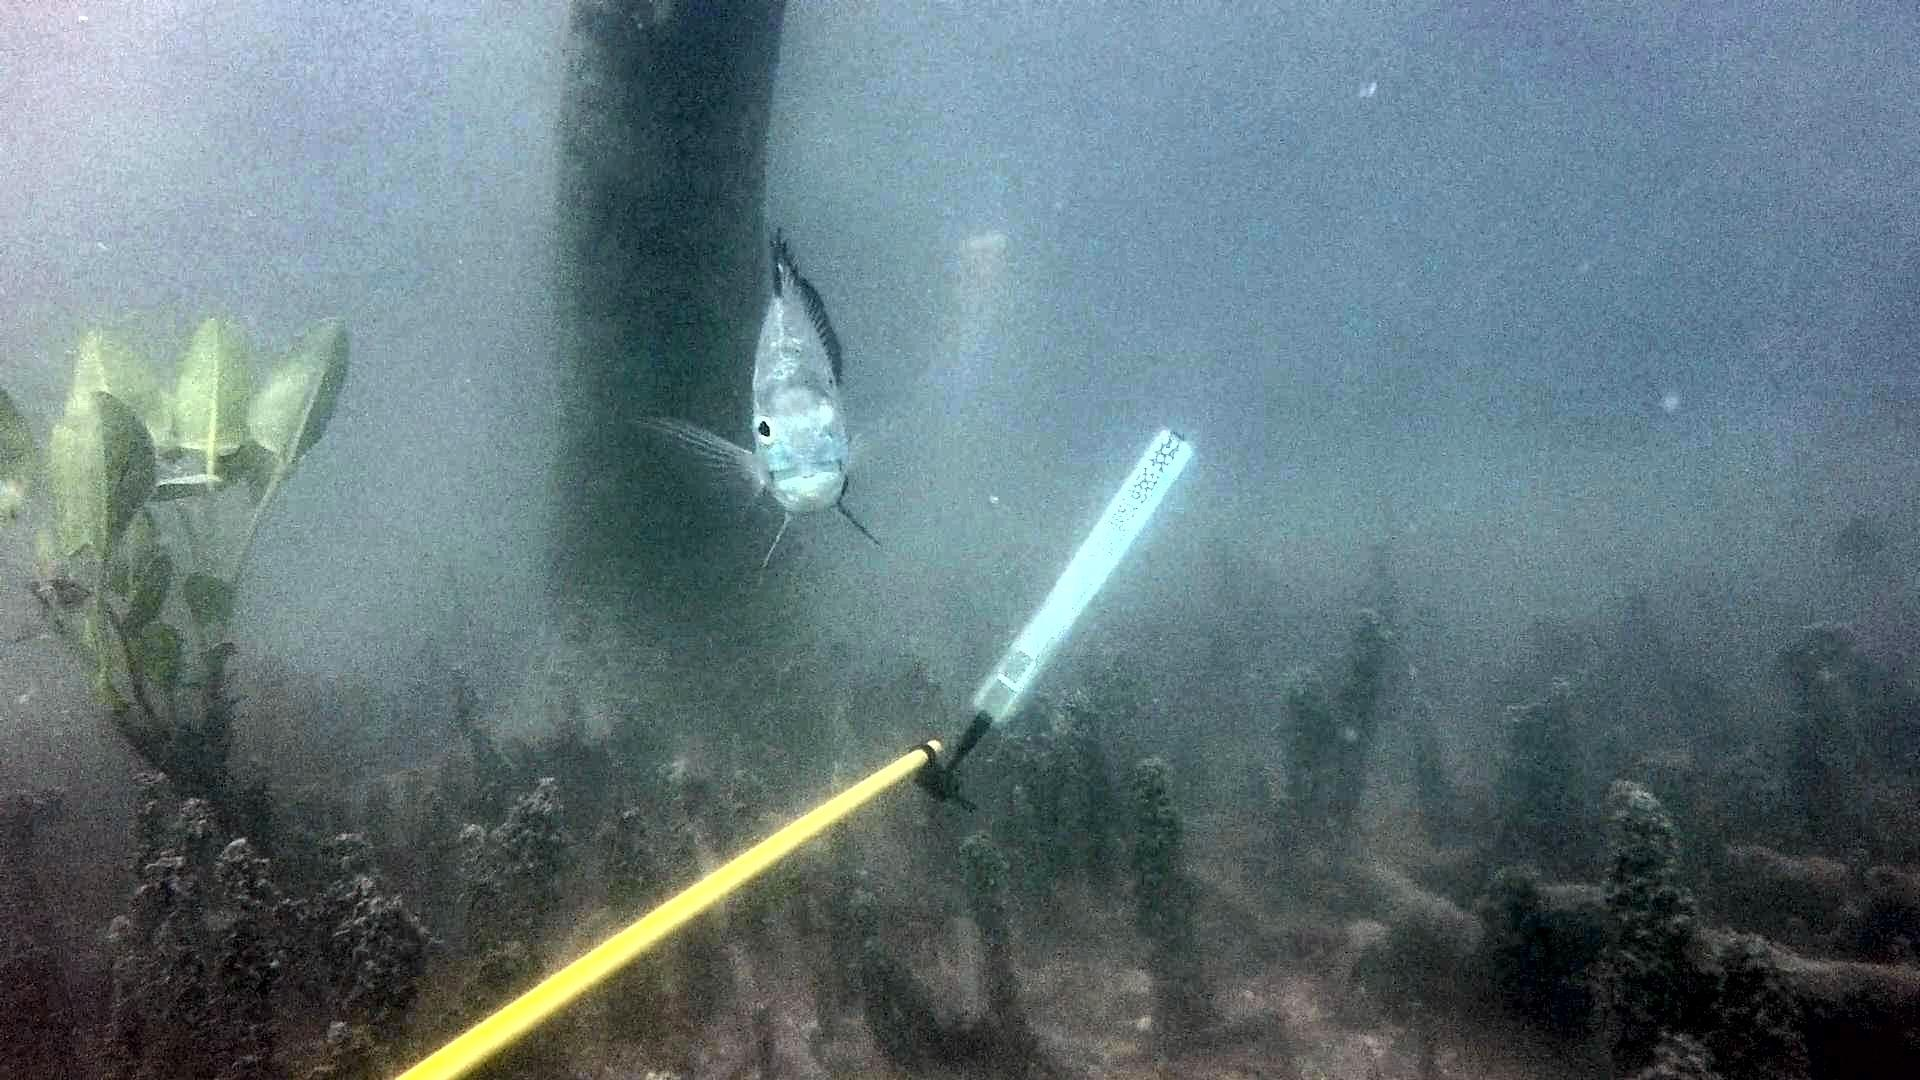acanthopagrus palmaris: (628, 216, 989, 576)
